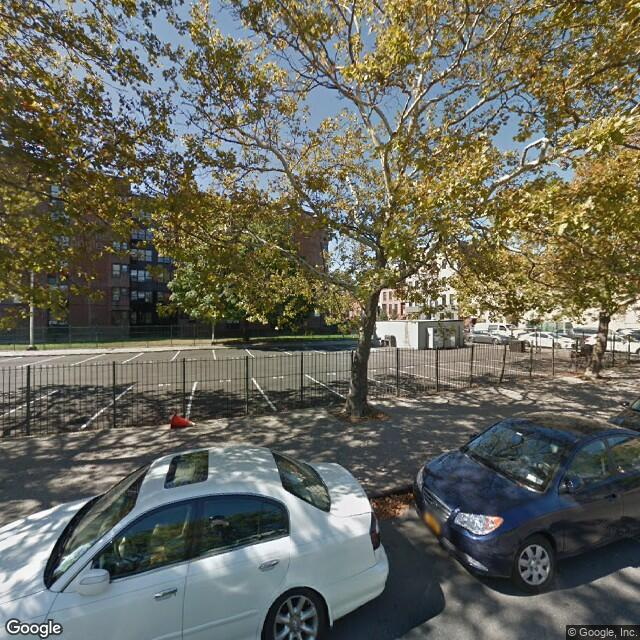litter: (368, 500, 429, 518), (161, 413, 205, 432)
